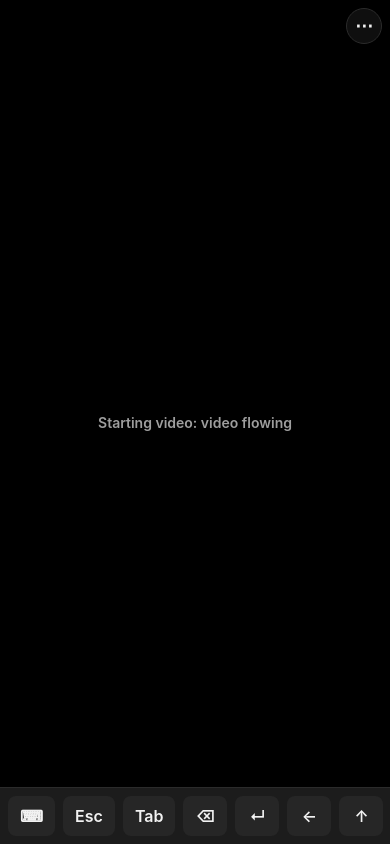
Scenario: RemoteScreen › the overlay header › stays hidden until the ⋯ button is tapped
The image size is (390, 844).
Check: the text "Disconnect" is not shown
Click the text "⋯". click: (364, 26)
box: [355,16,373,36]
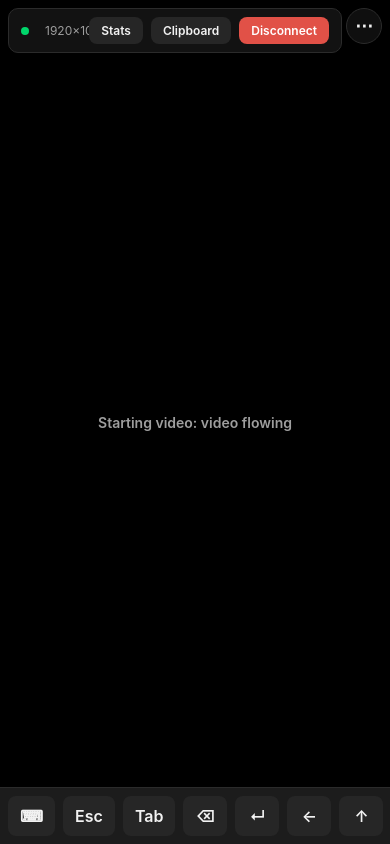
Check: the text "1920×1080" is shown, box [45,23,108,38]
Check: the text "Disconnect" is shown, box [251,23,317,38]
Click the text "⋯". click: (364, 26)
box: [355,16,373,36]
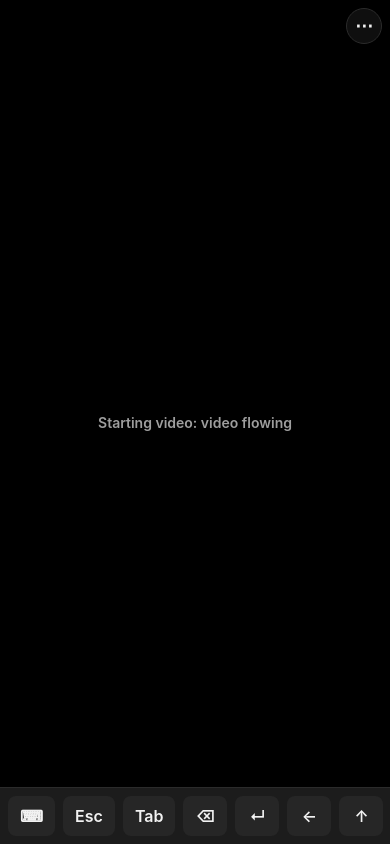
Check: the text "Disconnect" is gone
